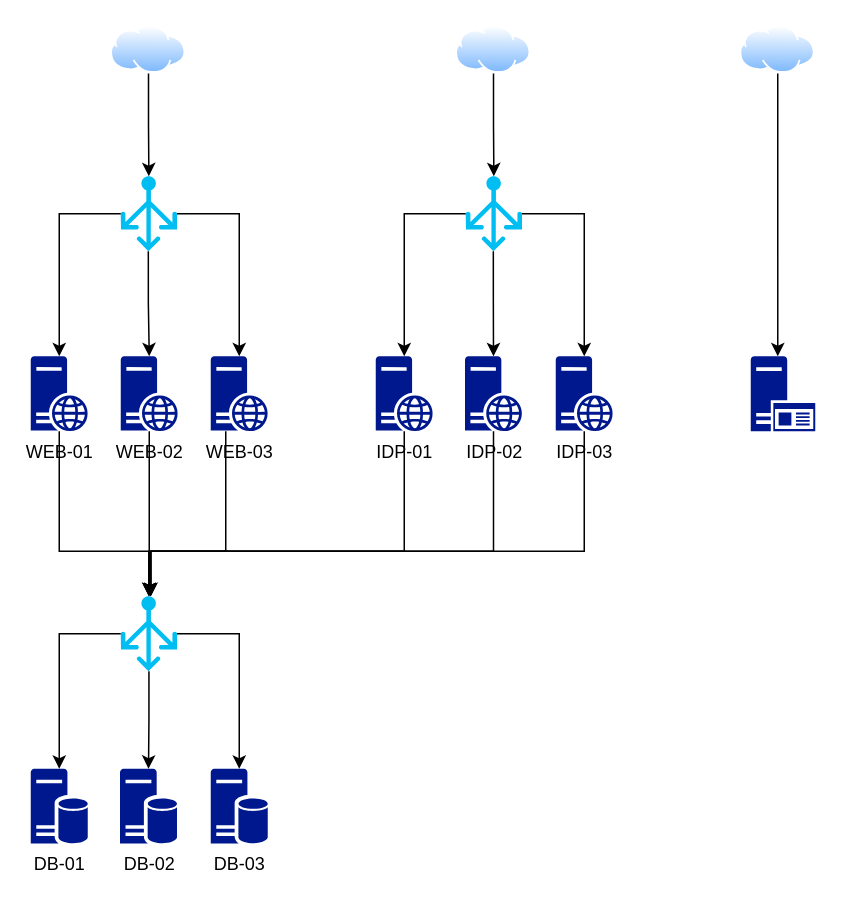
Image size: 845x900. Some labels were removed from this diagram. Here are the shapes that lost their labels. From the top down, the centre of each, then its label:
pixel 148 213: WEB-LB
pixel 493 213: IDP-LB
pixel 782 393: mgmt-01
pixel 148 633: DB-LB
